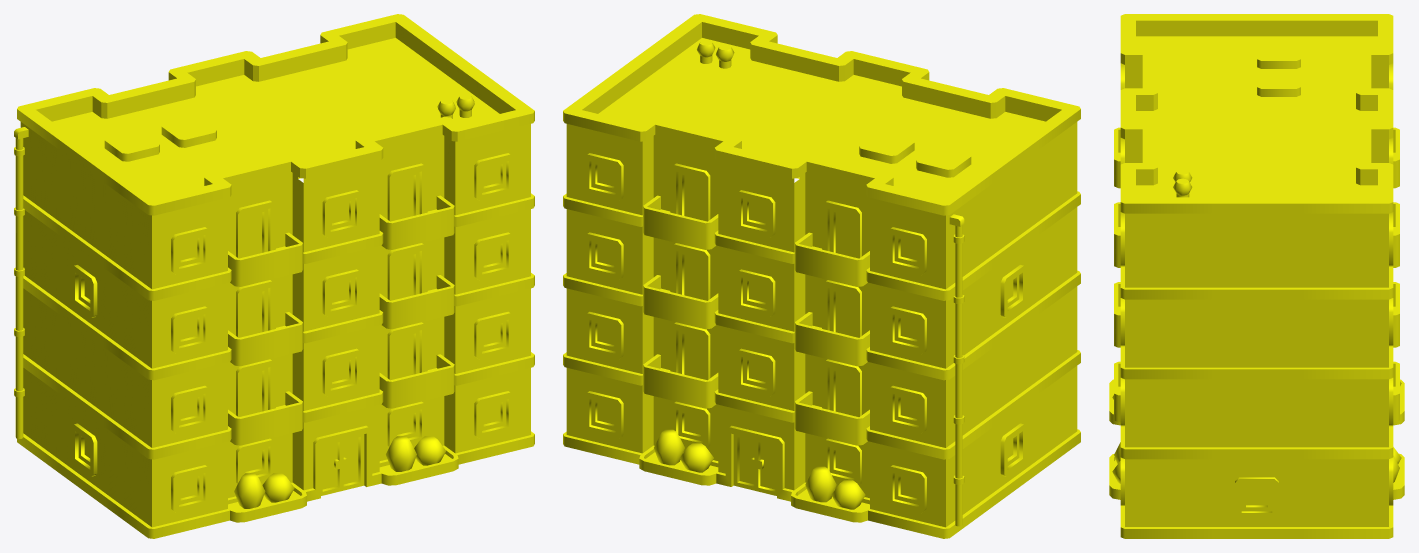
The model's file is entertainment-0.glb.
3 views of the same model, side by side, from view 1: azimuth 30°, elevation 25°; view 2: azimuth 150°, elevation 25°; view 3: azimuth 270°, elevation 25° (orthographic).
Visible parts, largest first — view 1: building-j; view 2: building-j; view 3: building-j.
Part boxes in pixels (x1,y1,x2,y2): building-j: [14, 14, 534, 538]; building-j: [563, 14, 1080, 538]; building-j: [1109, 14, 1404, 538].
Bounding box in the file's own units: 2.08 × 1.69 × 1.34.
Materials: 1 (1 with a texture image).
